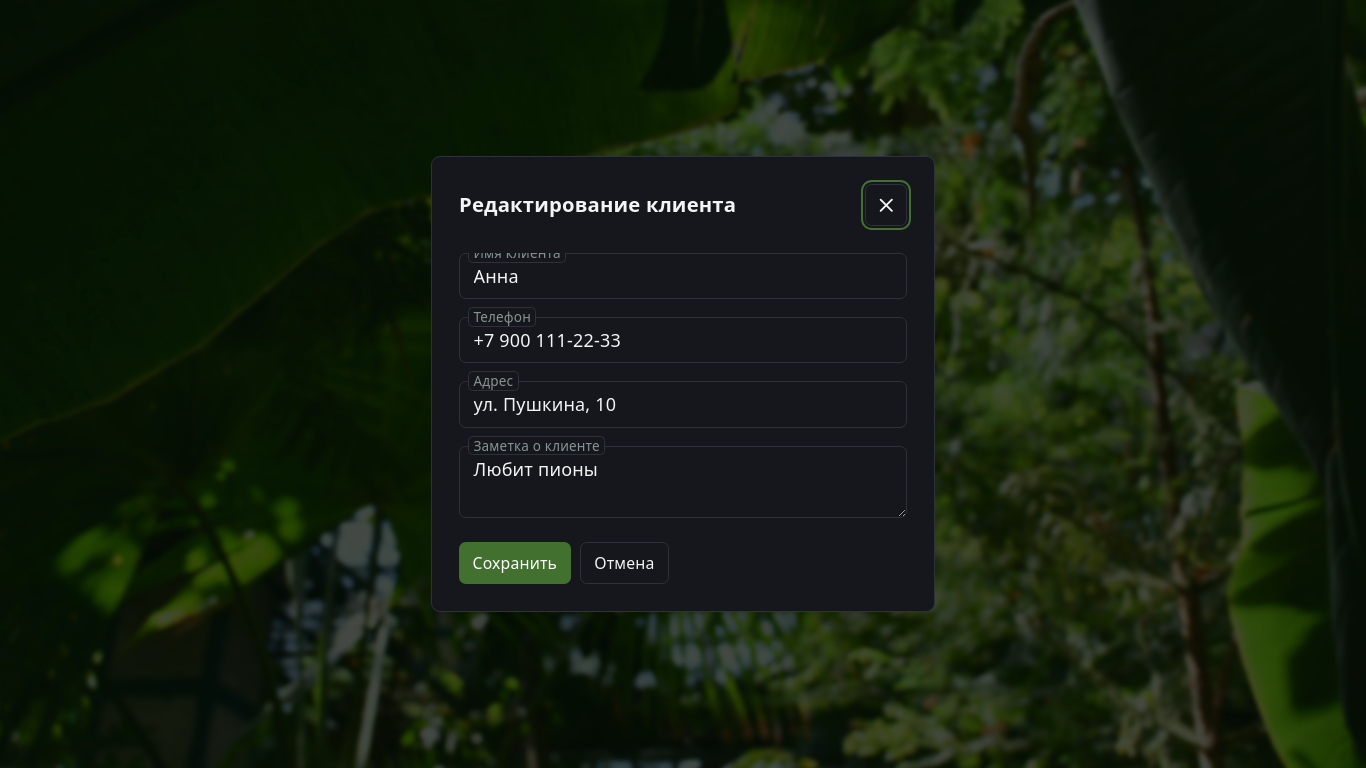
Test: CustomerEditModal › keeps the dialog open and shows the error inline when the save fails
Step 1. Click the button "Сохранить" → click(515, 563), box [459,542,571,584]
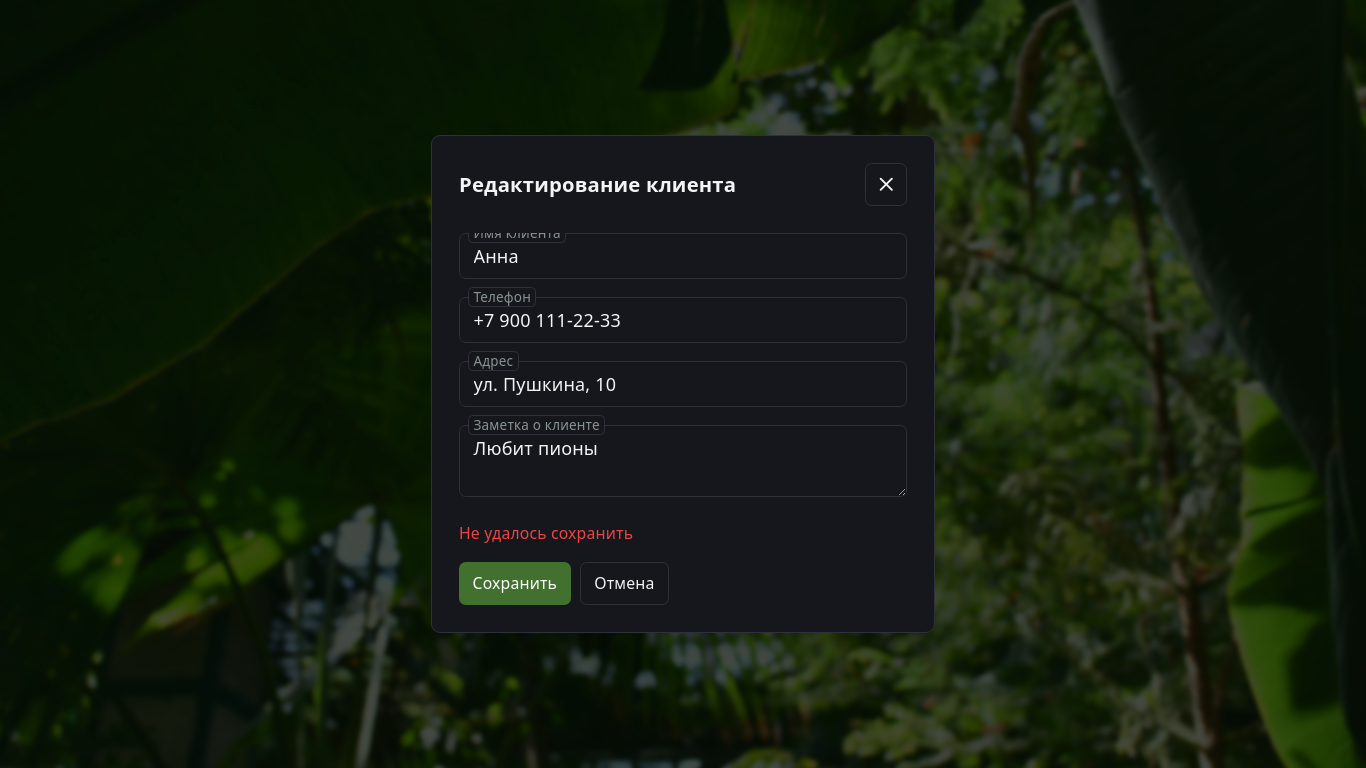
Now the text "Не удалось сохранить" is shown, box [459,522,633,544]
